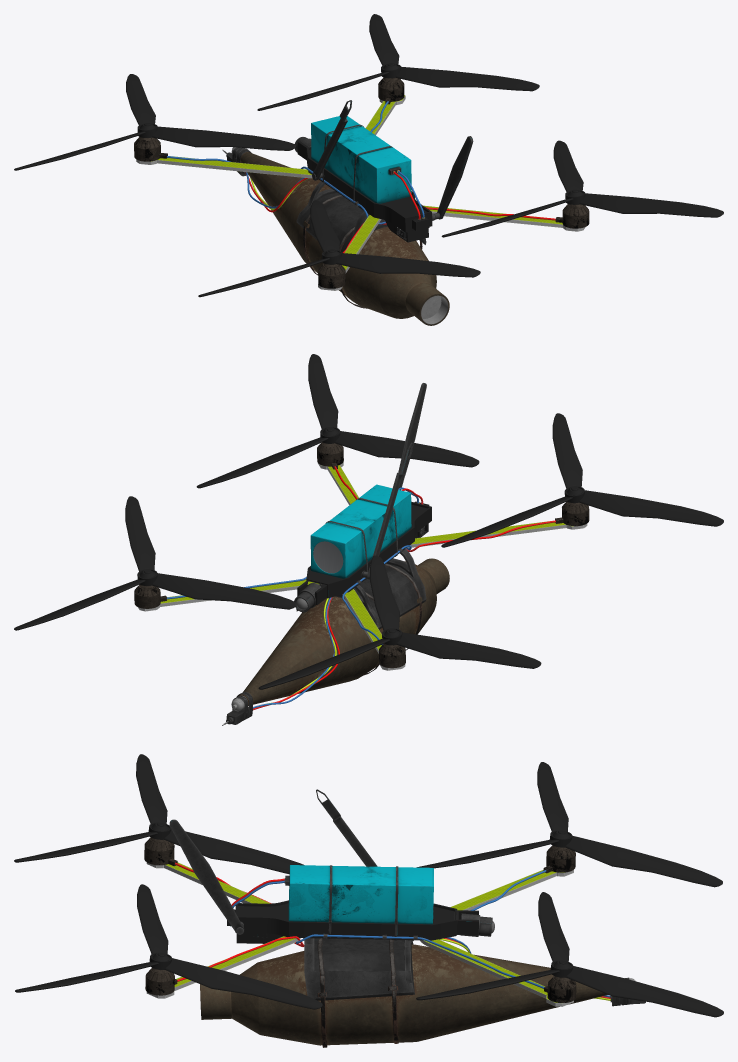
The model's file is fpv_drone_3d_model.glb.
3 renders of one model, top to bottom at view 1: azimuth 30°, elevation 25°; view 2: azimuth 150°, elevation 25°; view 3: azimuth 270°, elevation 25°, orthographic. The views are drawn at different scales.
Visible parts, largest first — view 1: GPshka, Body, Luchi, Vint_FR, Vint_FR.002, Vint_FR.003, Vint_FR.001, Provoda; view 2: GPshka, Body, Luchi, Vint_FR.002, Vint_FR.003, Vint_FR, Vint_FR.001, Provoda; view 3: GPshka, Body, Luchi, Vint_FR, Vint_FR.001, Vint_FR.003, Vint_FR.002, Provoda.
Boxes of the visible parts, <box> form: GPshka: <box>222,147,449,325</box>; Body: <box>294,100,473,242</box>; Luchi: <box>134,77,589,290</box>; Vint_FR: <box>257,14,539,110</box>; Vint_FR.002: <box>198,200,480,297</box>; Vint_FR.003: <box>14,74,296,170</box>; Vint_FR.001: <box>441,140,723,237</box>; Provoda: <box>167,101,555,252</box>; GPshka: <box>222,548,449,725</box>; Body: <box>294,383,431,612</box>; Luchi: <box>134,442,589,670</box>; Vint_FR.002: <box>441,413,723,547</box>; Vint_FR.003: <box>258,555,541,689</box>; Vint_FR: <box>14,496,296,630</box>; Vint_FR.001: <box>196,354,479,488</box>; Provoda: <box>167,466,555,710</box>; GPshka: <box>200,938,645,1047</box>; Body: <box>169,789,494,943</box>; Luchi: <box>144,837,576,1006</box>; Vint_FR: <box>416,892,723,1017</box>; Vint_FR.001: <box>15,884,322,1009</box>; Vint_FR.003: <box>416,762,722,887</box>; Vint_FR.002: <box>14,754,304,874</box>; Provoda: <box>175,862,610,1000</box>.
Size of the model in its own units: 0.5438 by 0.2404 by 0.6521.
Materials: 5 (5 with a texture image).
